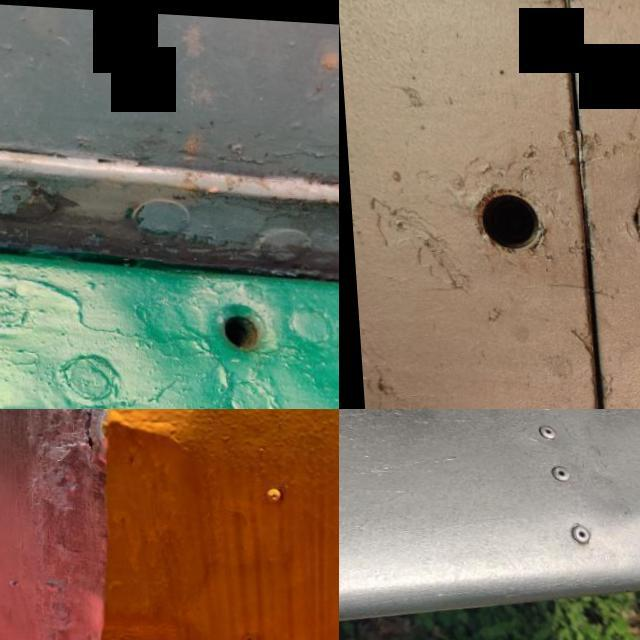Dent: (63, 409, 233, 472), (339, 409, 474, 469)
Missing_Fastener: (424, 132, 584, 296), (190, 278, 292, 379)
